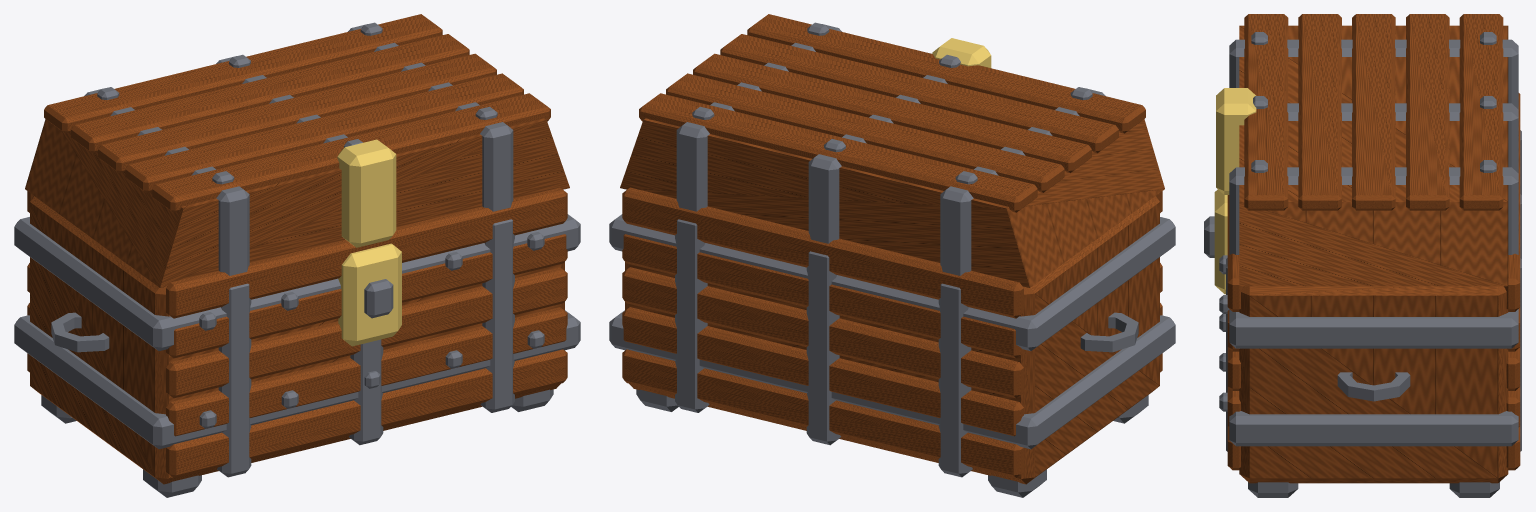
The model's file is fantasy-mmo-city-and-townsfolk-storage-chest-c28ef872__32764.glb.
The picture shows the model from 3 angles, left to right: view 1: azimuth 30°, elevation 25°; view 2: azimuth 150°, elevation 25°; view 3: azimuth 270°, elevation 25°; orthographic projection.
Visible parts, largest first — view 1: storage-chest, lid/wood, lid/iron, lid/gold; view 2: storage-chest, lid/wood, lid/iron, lid/gold; view 3: lid/wood, storage-chest, lid/iron, lid/gold.
Boxes of the visible parts, x1=… form: storage-chest: x1=14, y1=187, x2=580, y2=497; lid/wood: x1=25, y1=14, x2=569, y2=287; lid/iron: x1=84, y1=22, x2=513, y2=275; lid/gold: x1=337, y1=139, x2=396, y2=247; storage-chest: x1=609, y1=187, x2=1175, y2=497; lid/wood: x1=620, y1=14, x2=1164, y2=287; lid/iron: x1=676, y1=22, x2=1105, y2=275; lid/gold: x1=932, y1=38, x2=991, y2=67; lid/wood: x1=1239, y1=14, x2=1508, y2=286; storage-chest: x1=1204, y1=93, x2=1521, y2=497; lid/iron: x1=1229, y1=32, x2=1518, y2=254; lid/gold: x1=1216, y1=88, x2=1256, y2=194.
Size of the model in its own units: 1.66 by 1.02 by 0.945.
3 materials, 1 textured.
